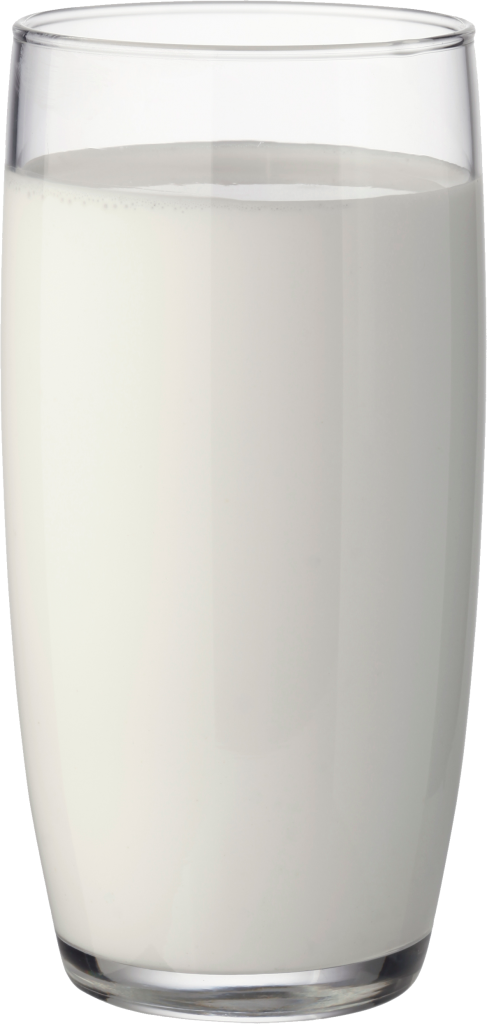glass of milk: (11, 57, 441, 995)
